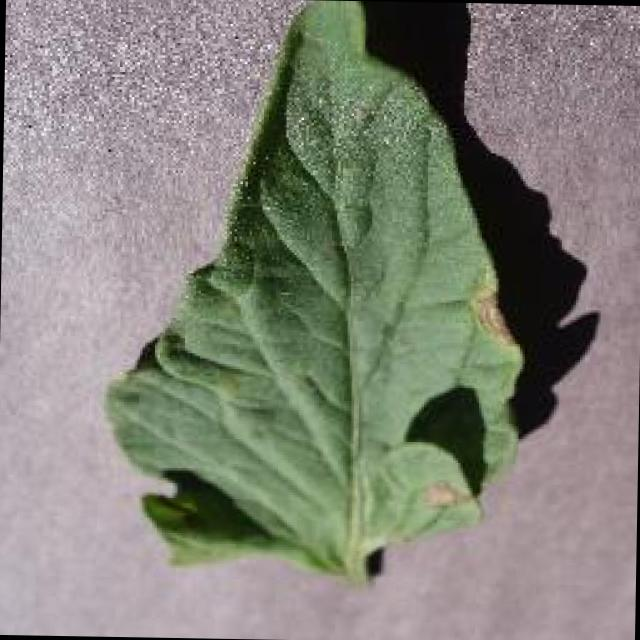Tomato_Early_Blight: (382, 255, 528, 564)
